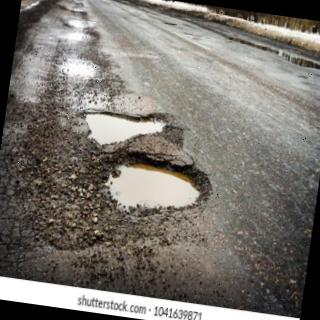pothole: (108, 151, 211, 208), (83, 110, 166, 145)
